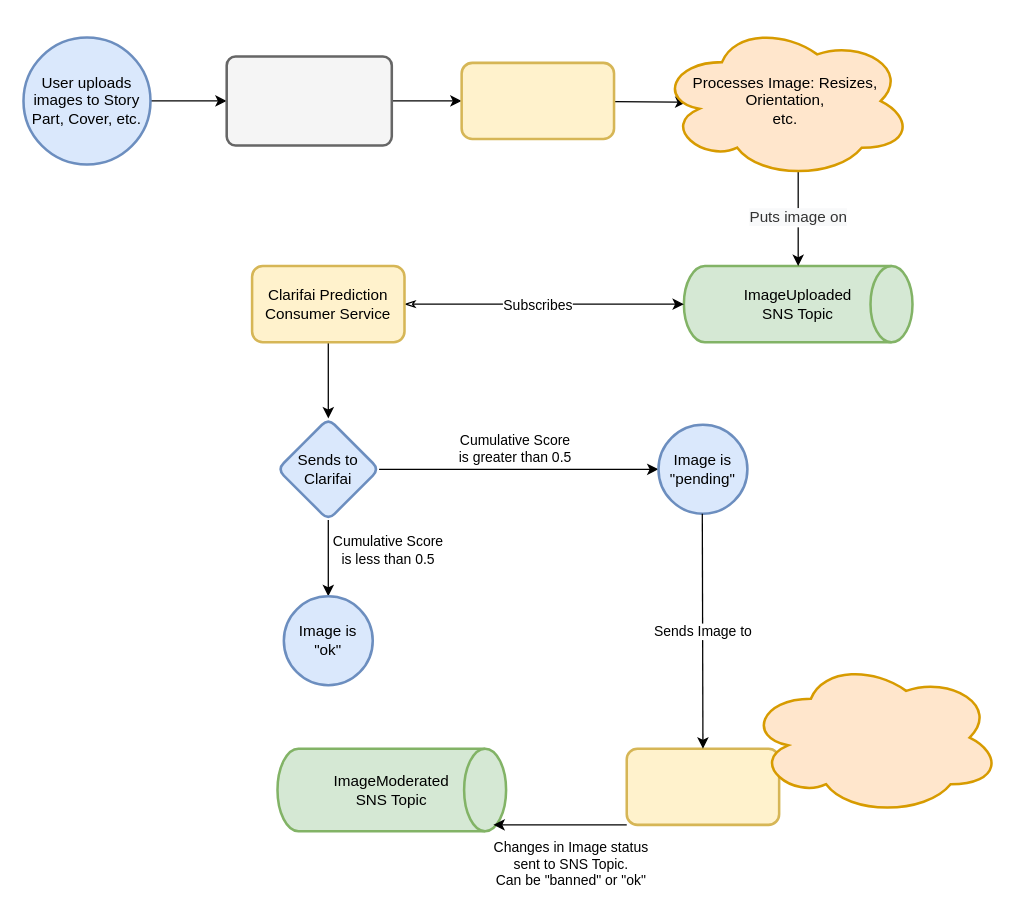
This 1024x911 diagram has some shape labels left out. Here are the shapes that lost their labels. From the top down, the box of each, then its label:
(225, 55, 392, 146): Posts image to Media Service.
(460, 61, 615, 140): Media Service
(745, 658, 1002, 816): Human moderation decides image status. There is user-messaging, appeals, etc.
(625, 747, 780, 826): Sixth Gear Image Moderation (Human)
